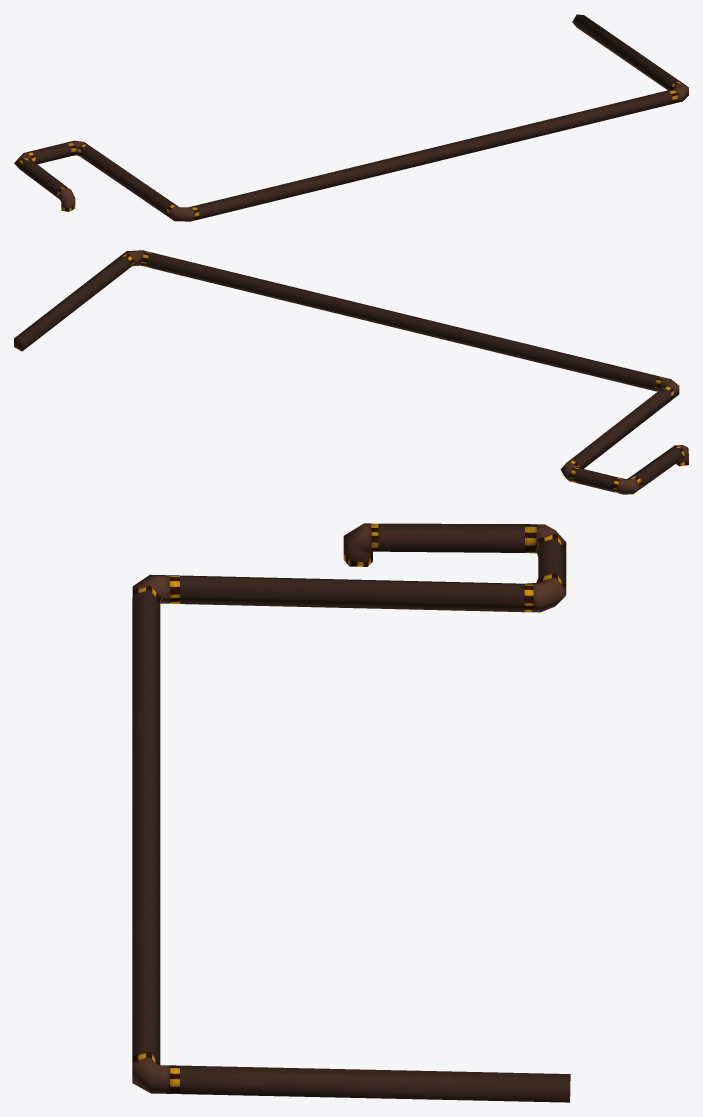
The model's file is sundries_20_ac3b7af8__ZombiesII_depot_diffuse_03_573b45f4_c1f257.obj.
The picture shows the model from 3 angles, top to bottom: view 1: azimuth 30°, elevation 25°; view 2: azimuth 150°, elevation 25°; view 3: azimuth 270°, elevation 25°; orthographic projection. The views are drawn at different scales.
Size of the model in its own units: 26.11 by 1 by 8.6.
Materials: 1 (1 with a texture image).
